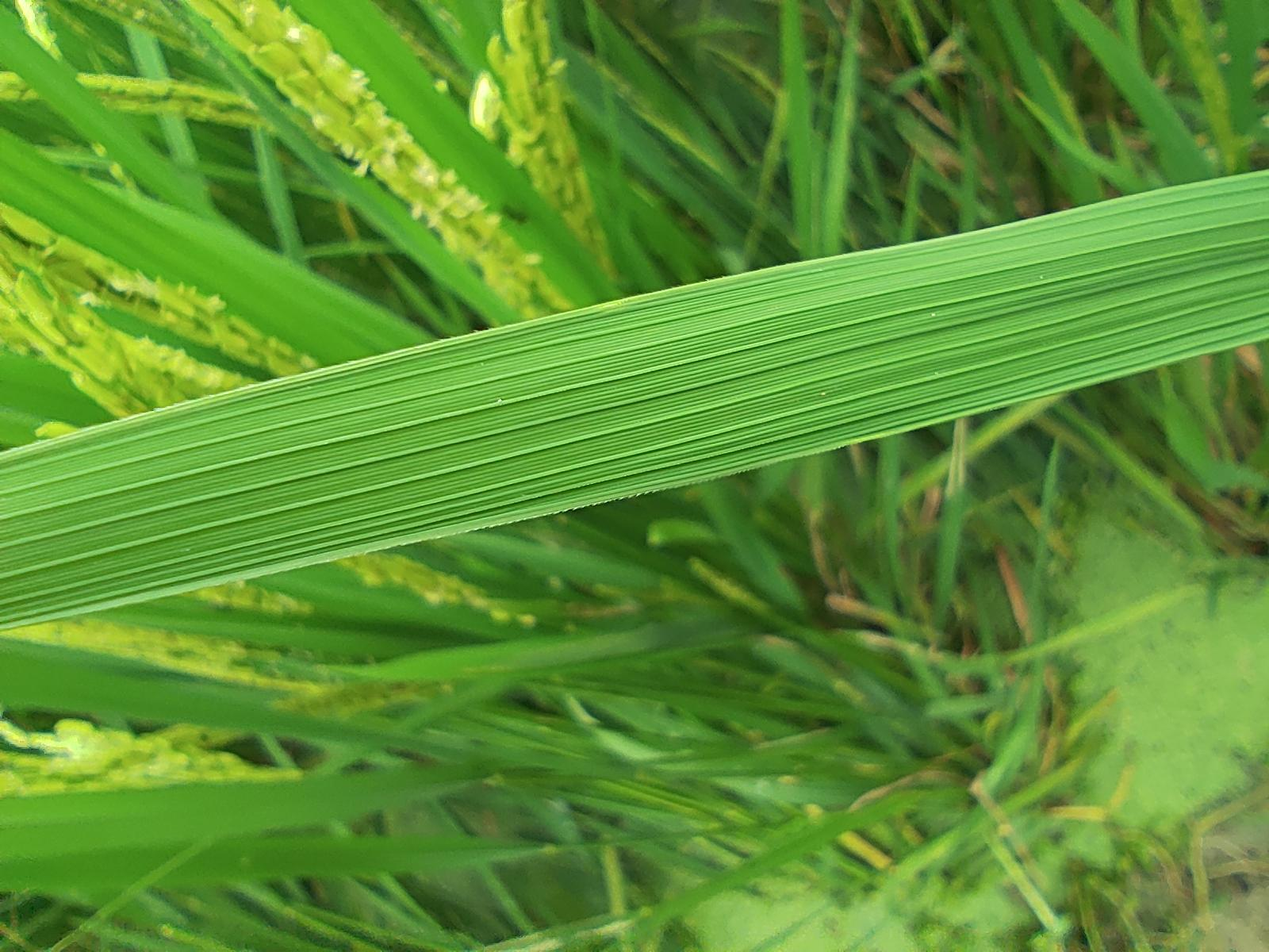Healthy: (437, 0, 1041, 951)
